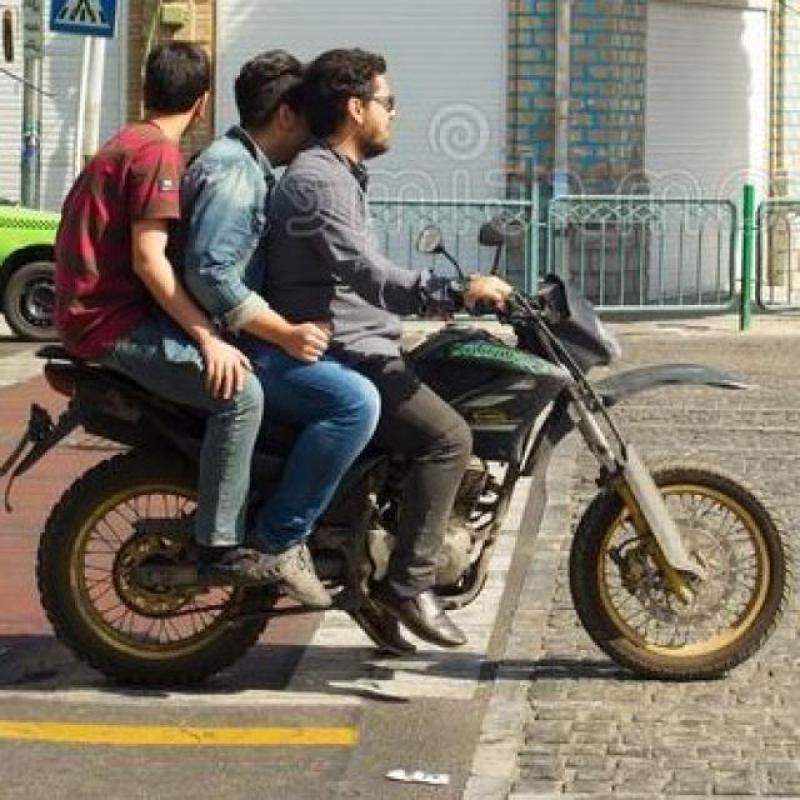nohelmet: (298, 24, 402, 170), (136, 21, 226, 150)
